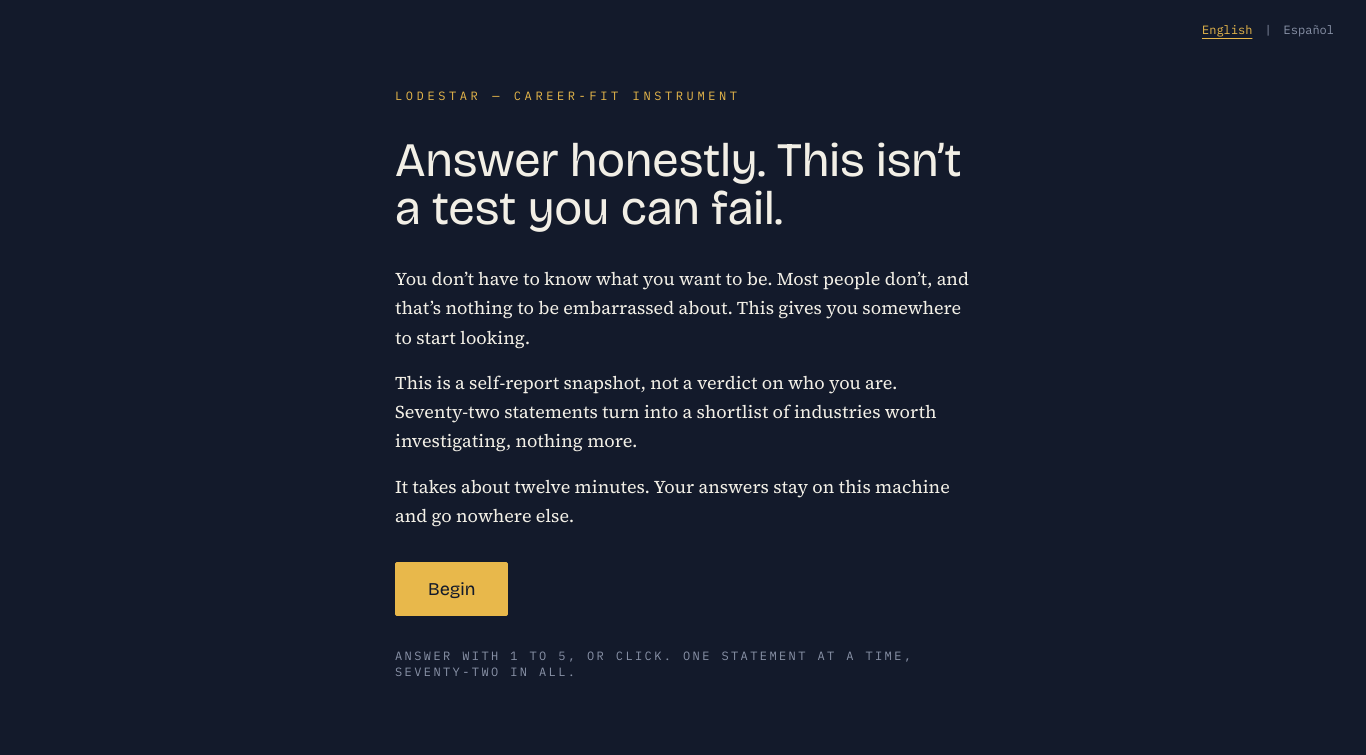
assessment flow › advances to the first item and shows progress
Click the button "Begin": click(452, 589) [395,562,508,616]
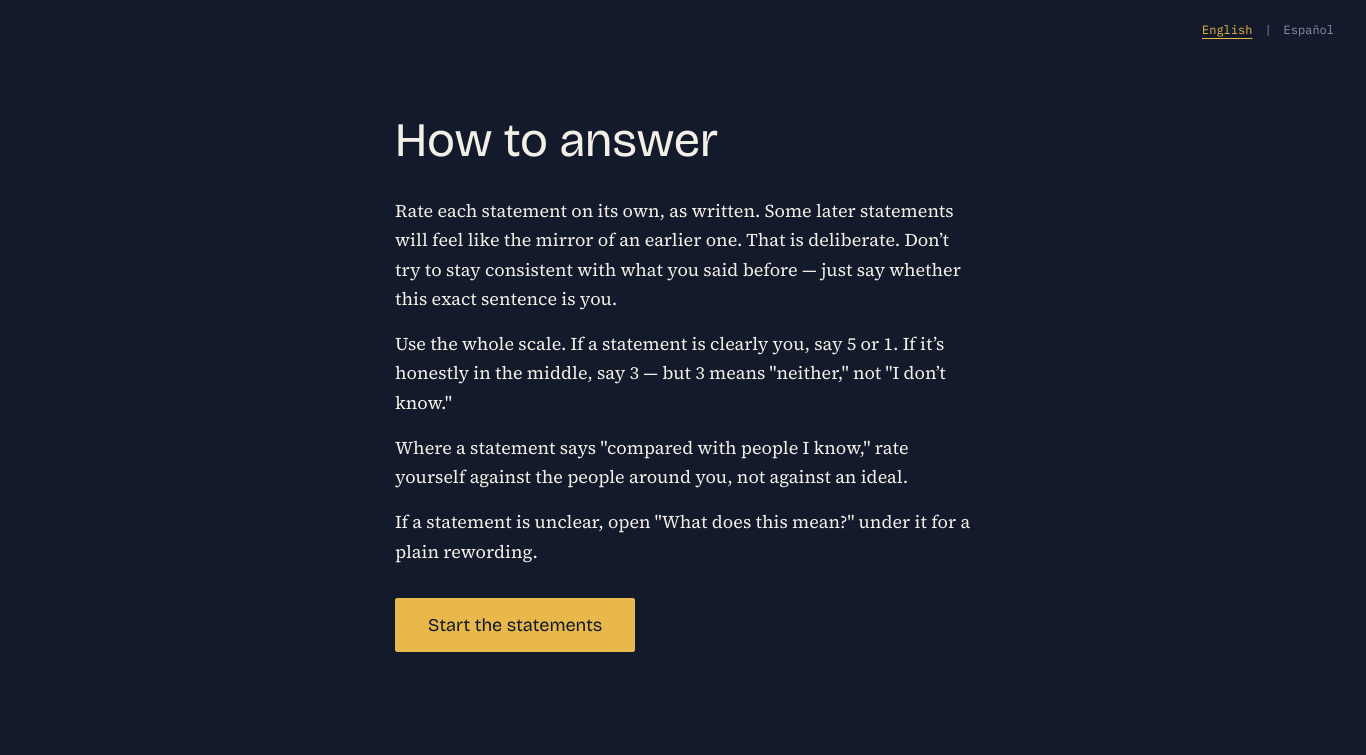
Click the button "Start the statements": click(515, 625) [395,598,635,652]
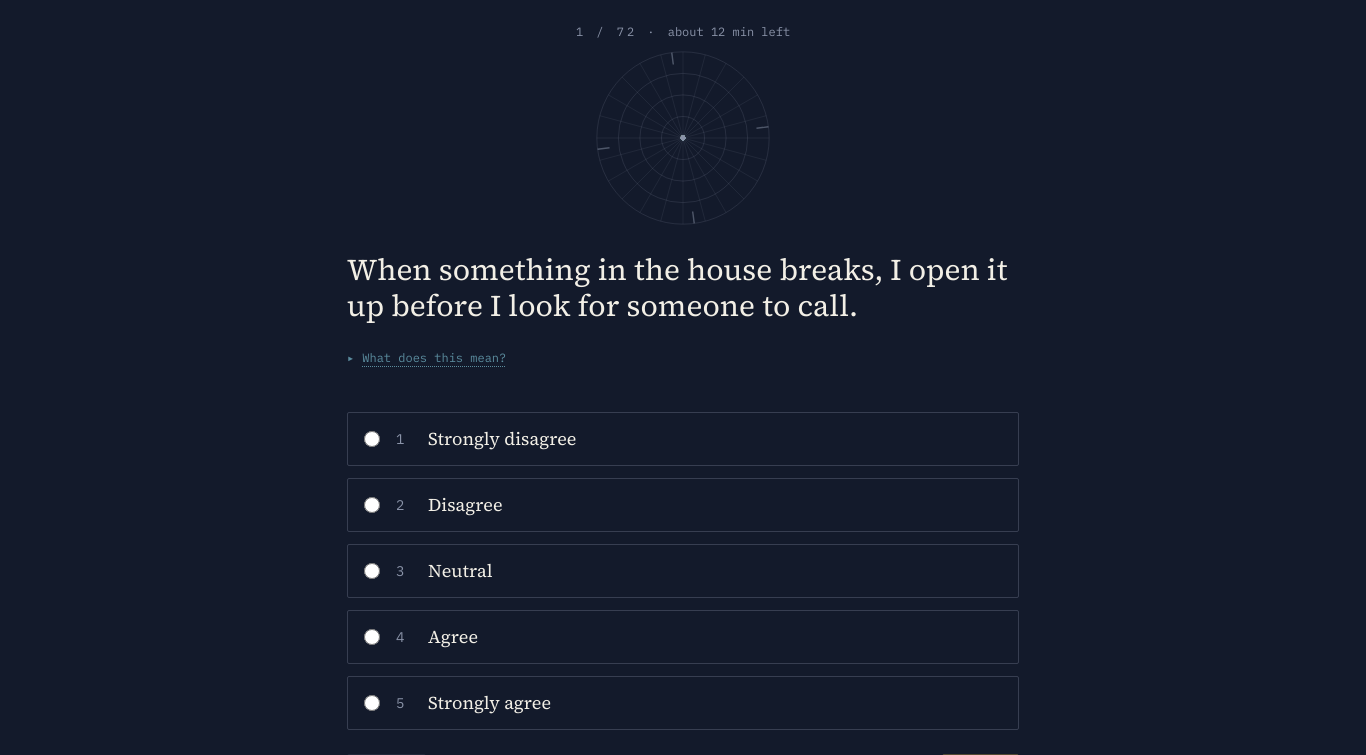
Now the text "When something in the house breaks, I open it up before I look for someone to call." is shown, box [347,249,1008,326]
Now the text "1 / 72 · about 12 min left" is shown, box [576,24,790,40]
